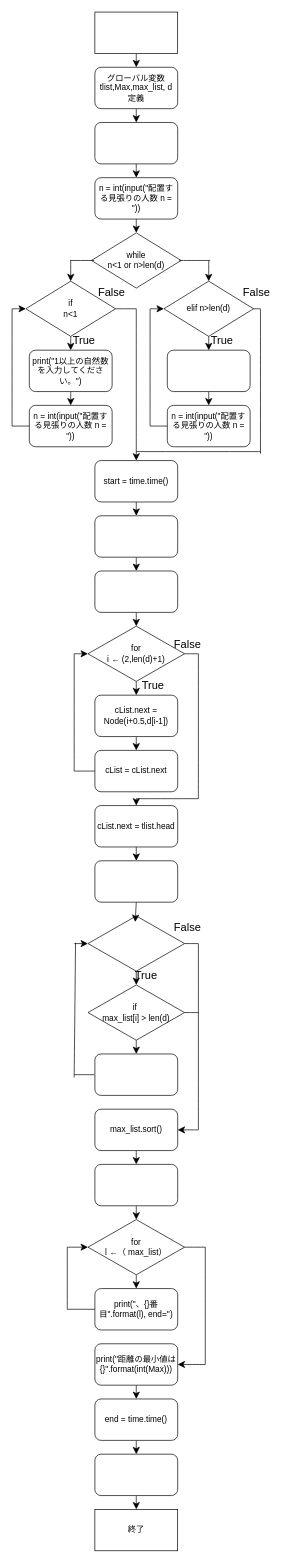
The diagram is 289 pixels wide and 1563 high, and some of its shapes have lost their labels. Here are the shapes that lost their labels. From the top down, the box of each, then its label:
(94, 11, 178, 53): main()関数 開始
(94, 122, 178, 164): d＝d1 or d2 or d3
(167, 349, 250, 392): print("配置する見張りの人数が塔の数よりも多いです。")
(94, 515, 178, 557): tlist = Link(Node(1.5,d[0]))
(94, 570, 178, 612): cList = tlist.head
(94, 860, 178, 902): twosearch(n)
(87, 915, 185, 971): for i ← (0,len(max_list))
(94, 1053, 178, 1095): max_list[i] = max_list[i] - len(d)
(94, 1164, 178, 1206): print("見張りを配置する塔は", end='')
(94, 1453, 178, 1496): print("処理時間: {}秒".format(end-start))
